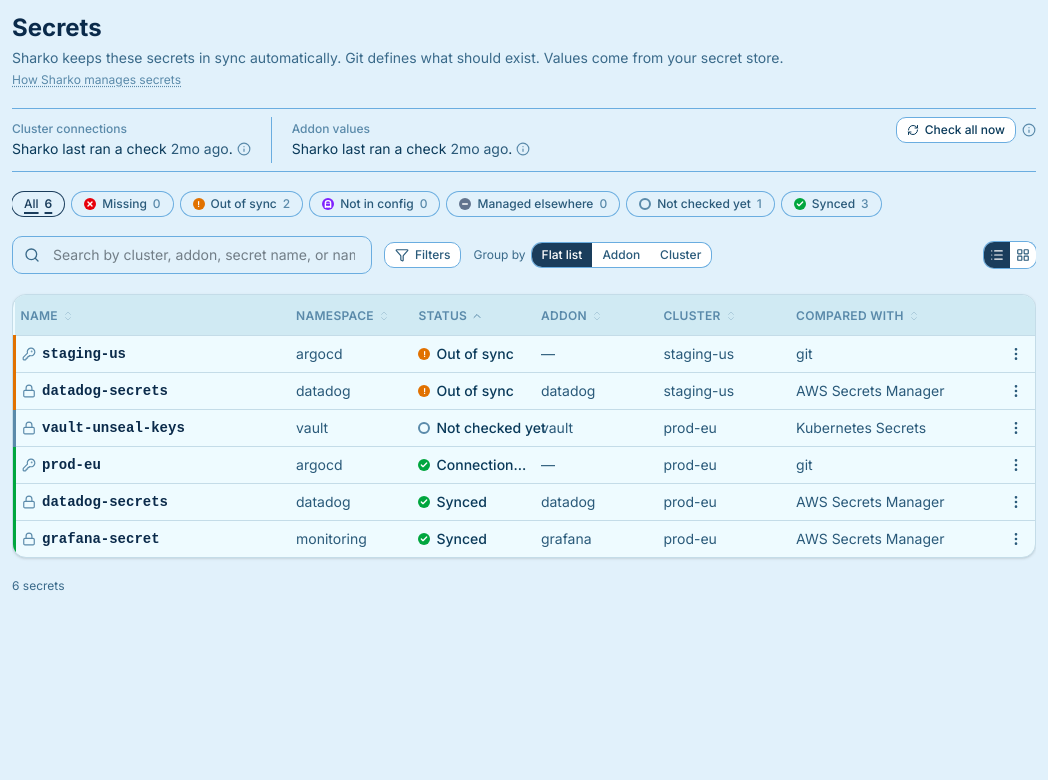
Test: ManagedSecrets — Group by (G2) › grouped by cluster puts both kinds of secret for that cluster under one parent
expect the button with test id "secret-row-values-prod-eu-datadog" is shown: met, box [14,483,1035,520]
Click the button with test id "group-by-cluster" at (681, 255), box [650,243,711,267]
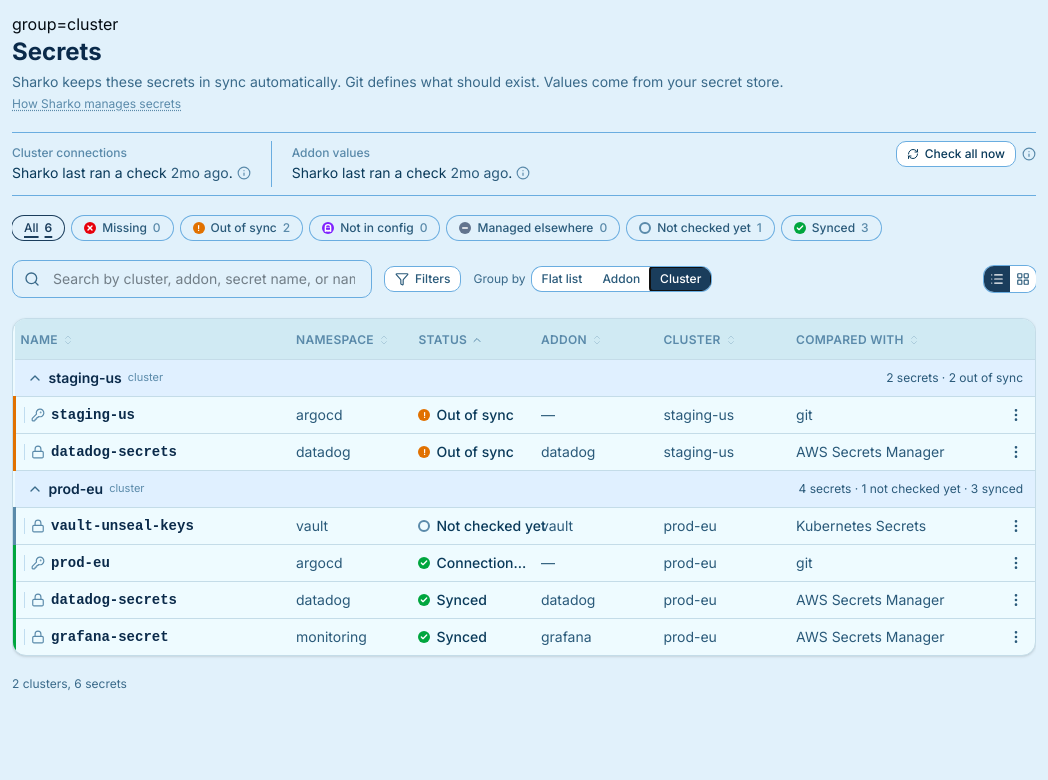
expect the button with test id "secret-row-connection-prod-eu" is shown: met, box [14,544,1035,581]
expect the button with test id "secret-group-cluster-prod-eu" is shown: met, box [14,470,1035,506]
expect the button with test id "secret-group-cluster-staging-us" is shown: met, box [14,360,1035,396]
